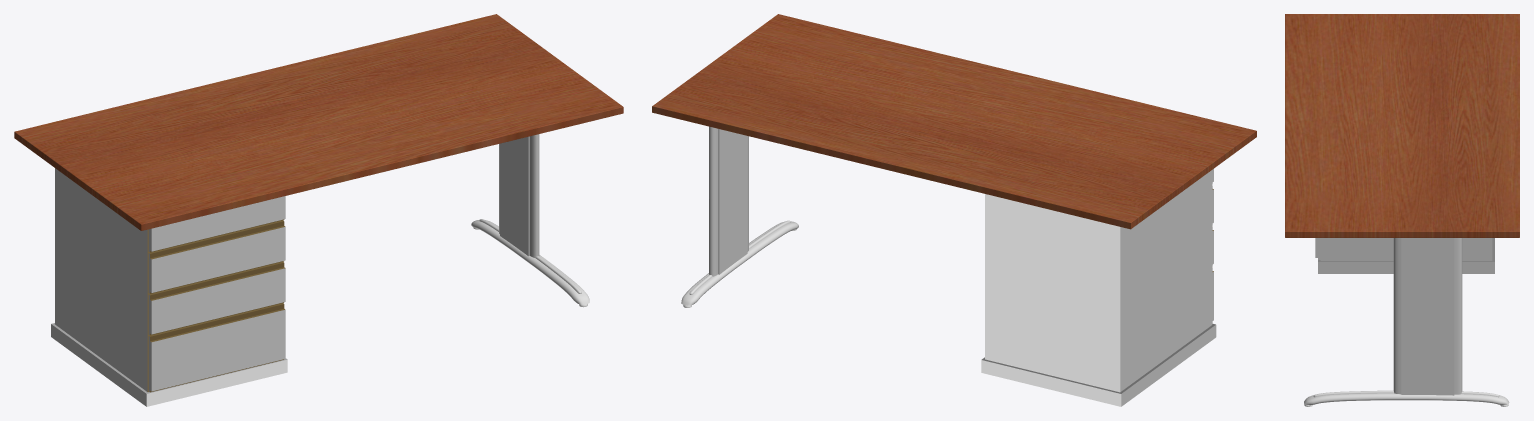
Rendered from computer_Desk.glb.
The picture shows the model from 3 angles, left to right: view 1: azimuth 30°, elevation 25°; view 2: azimuth 150°, elevation 25°; view 3: azimuth 270°, elevation 25°; orthographic projection. The views are drawn at different scales.
Parts seen in each view (by area): view 1: Asset3DLoader.sceneRoot; view 2: Asset3DLoader.sceneRoot; view 3: Asset3DLoader.sceneRoot.
Part boxes in pixels (x1=…): Asset3DLoader.sceneRoot: x1=14, y1=14, x2=623, y2=406; Asset3DLoader.sceneRoot: x1=652, y1=14, x2=1256, y2=406; Asset3DLoader.sceneRoot: x1=1285, y1=14, x2=1519, y2=406.
Bounding box in the file's own units: 195 × 77.68 × 88.9.
Materials: 5 (1 with a texture image).
